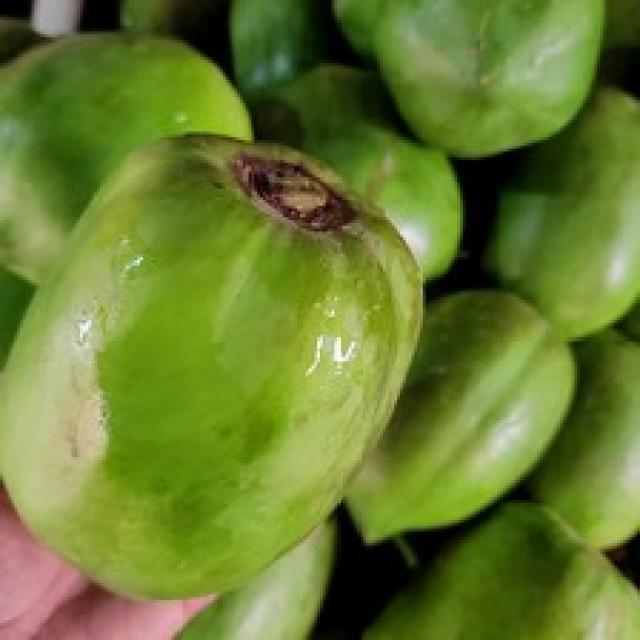Pepaya unrippen: (11, 111, 432, 608)
